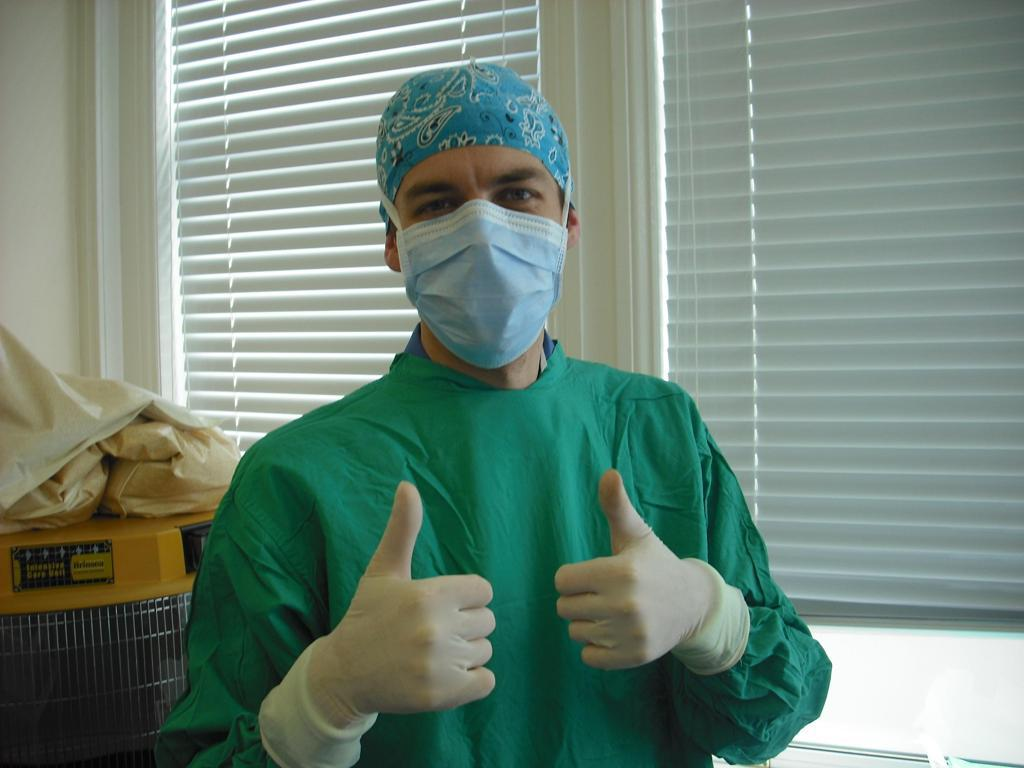face: (397, 137, 571, 363)
